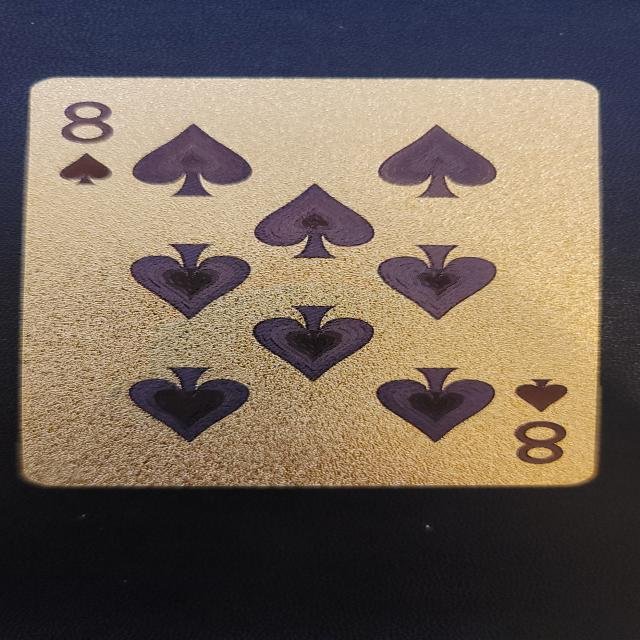8 of spades: (15, 76, 612, 494)
